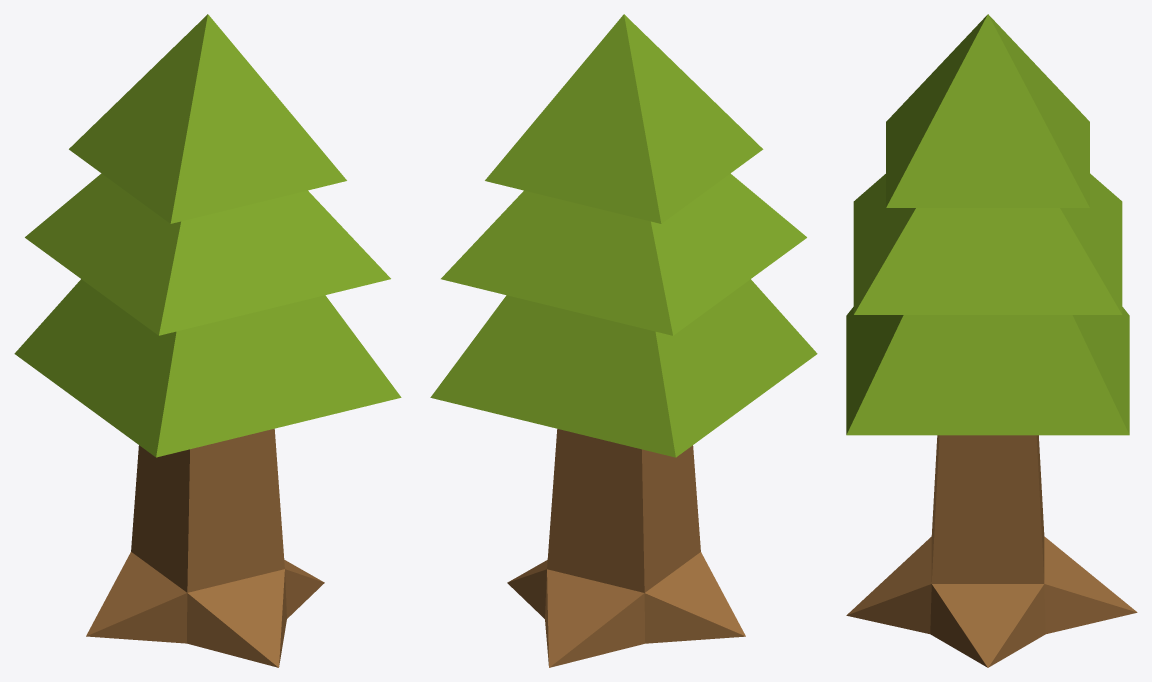
Rendered from Tree.fbx.
3 renders of one model, left to right at view 1: azimuth 30°, elevation 25°; view 2: azimuth 150°, elevation 25°; view 3: azimuth 270°, elevation 25°, orthographic.
Parts seen in each view (by area): view 1: Tree; view 2: Tree; view 3: Tree.
Part boxes in pixels (x1,y1,x2,y2): Tree: (14,14,401,667); Tree: (430,14,817,667); Tree: (846,14,1137,667).
Bounding box in the file's own units: 181 × 425 × 187.
